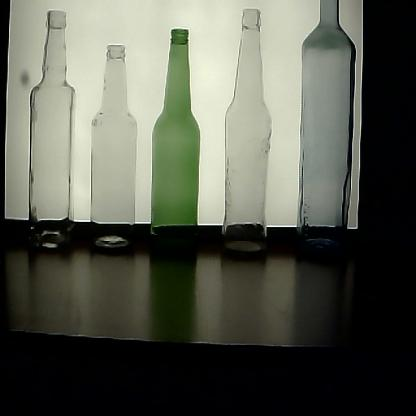Can: (292, 1, 360, 267), (217, 6, 276, 268), (24, 10, 80, 260), (146, 27, 204, 266), (87, 42, 139, 260)
